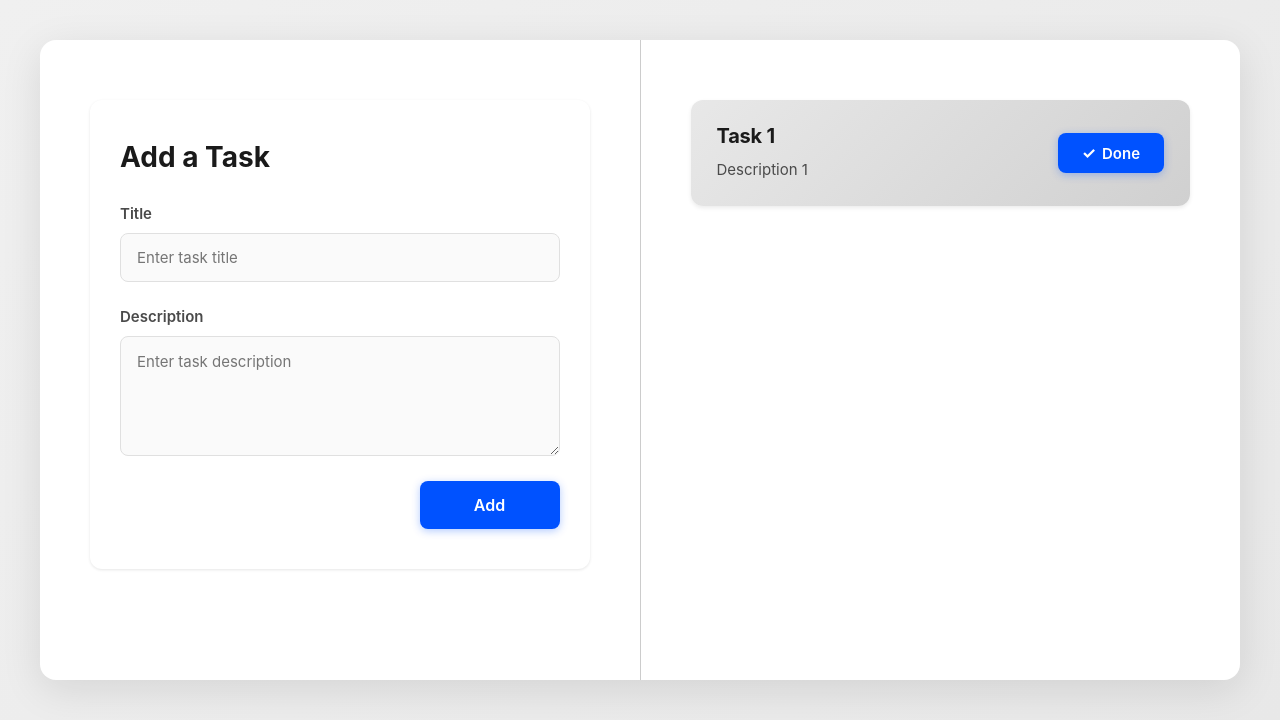
it: App Component › completes a task successfully
Expected: the heading "Task 1" is shown, [716,124,775,148]
Click the button "Done".
click(1111, 153)  # box [1058,133,1164,173]
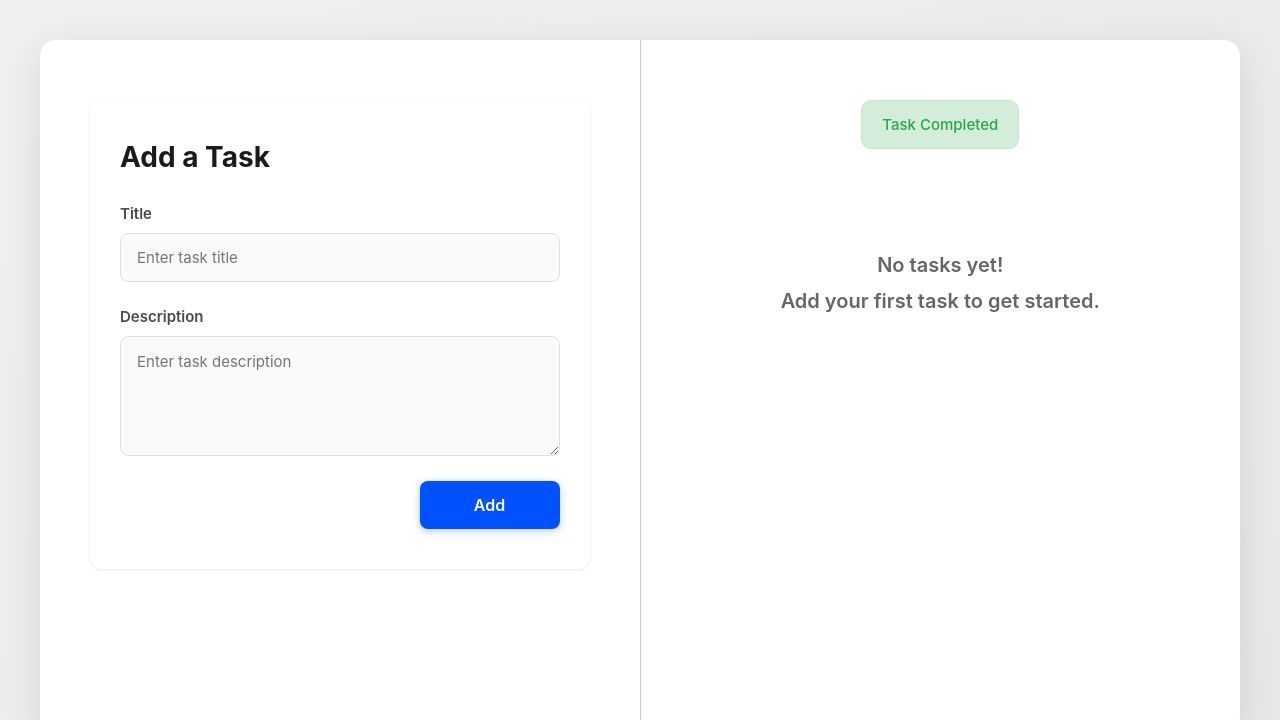
Now the text "Task Completed" is shown, box [861,100,1019,149]
